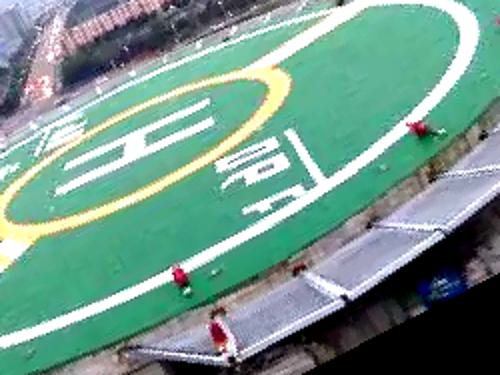Apron: (1, 66, 296, 243)
